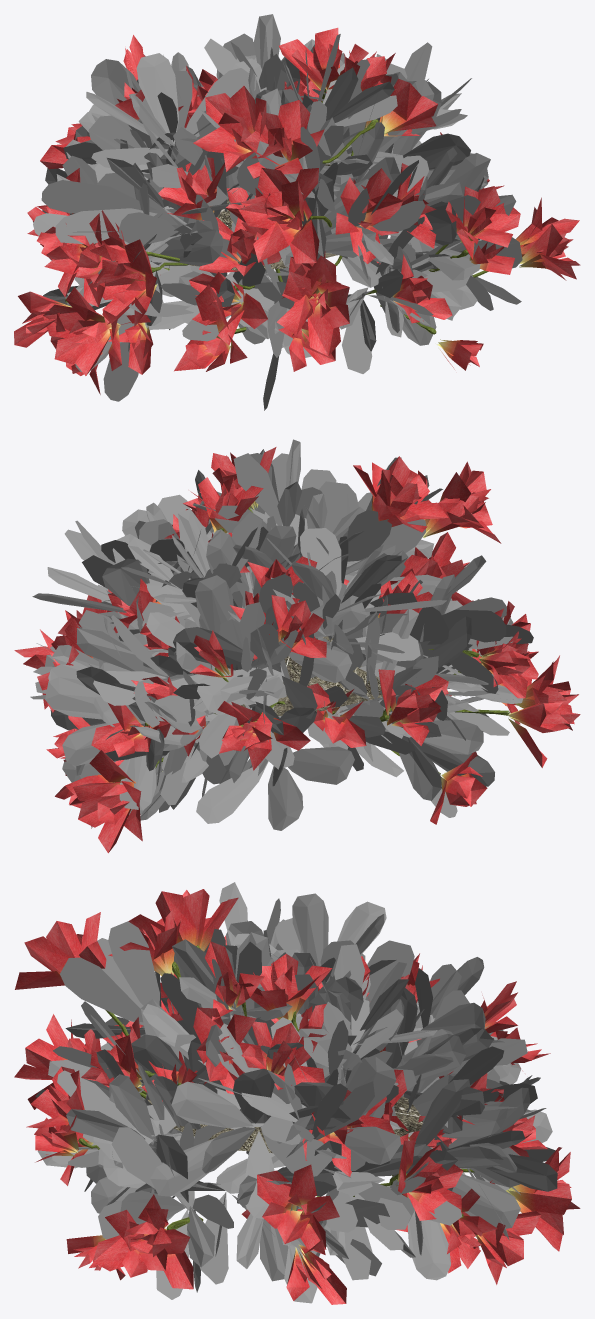
Rendered from flower_bush.FBX.
3 renders of one model, top to bottom at view 1: azimuth 30°, elevation 25°; view 2: azimuth 150°, elevation 25°; view 3: azimuth 270°, elevation 25°, orthographic. The views are drawn at different scales.
Parts seen in each view (by area): view 1: Arch41_045, Arch41_042, Arch41_044, Arch41_043; view 2: Arch41_045, Arch41_042, Arch41_044, Arch41_041, Arch41_046; view 3: Arch41_045, Arch41_042, Arch41_044, Arch41_041, Arch41_043.
Boxes of the visible parts, left/top/right/bottom form: Arch41_045: left=33, top=14, right=522, bottom=410; Arch41_042: left=43, top=27, right=580, bottom=375; Arch41_044: left=14, top=35, right=579, bottom=394; Arch41_043: left=146, top=89, right=488, bottom=334; Arch41_045: left=30, top=439, right=533, bottom=830; Arch41_042: left=37, top=456, right=578, bottom=853; Arch41_044: left=14, top=447, right=580, bottom=828; Arch41_041: left=241, top=635, right=382, bottom=715; Arch41_046: left=214, top=507, right=510, bottom=774; Arch41_045: left=35, top=882, right=557, bottom=1303; Arch41_042: left=14, top=889, right=580, bottom=1280; Arch41_044: left=46, top=934, right=550, bottom=1304; Arch41_041: left=145, top=1094, right=423, bottom=1153; Arch41_043: left=78, top=945, right=474, bottom=1196.
Size of the model in its own units: 48.16 by 27.36 by 42.92.
Materials: 5 (4 with a texture image).
